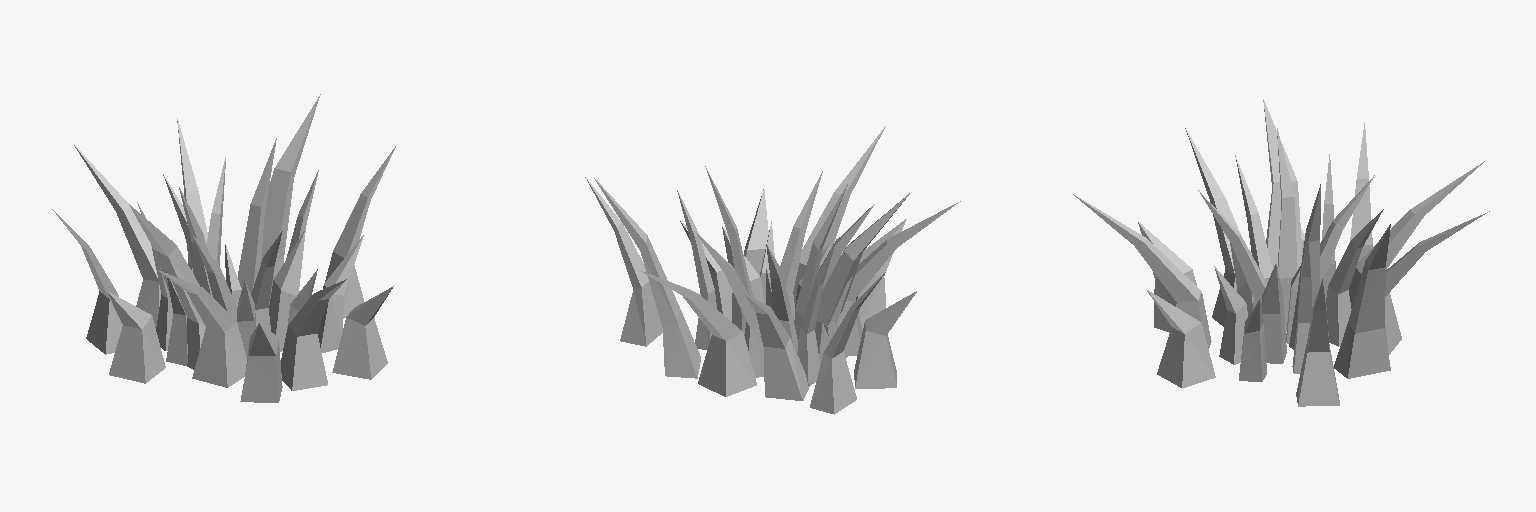
File: Grass_4.obj
3 renders of one model, left to right at view 1: azimuth 30°, elevation 25°; view 2: azimuth 150°, elevation 25°; view 3: azimuth 270°, elevation 25°, orthographic.
Visible parts, largest first — view 1: Grass_4; view 2: Grass_4; view 3: Grass_4.
Part boxes in pixels (bbox=[...]): Grass_4: bbox=[52, 94, 395, 402]; Grass_4: bbox=[585, 126, 960, 414]; Grass_4: bbox=[1073, 99, 1489, 406].
Bounding box in the file's own units: 0.9542 × 0.5337 × 1.07.